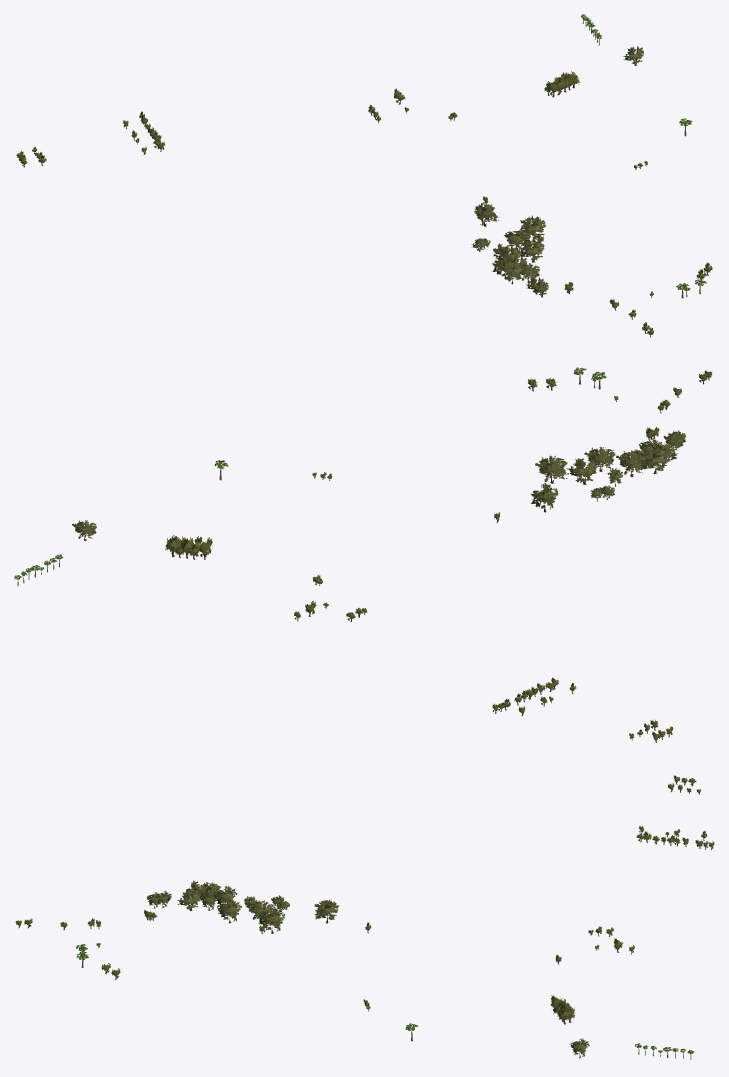
3 views of the same model, one above another, from view 1: azimuth 30°, elevation 25°; view 2: azimuth 150°, elevation 25°; view 3: azimuth 270°, elevation 25° (orthographic). The views are drawn at different scales.
Parts seen in each view (by area): view 1: jacaranda_tree street foliage, island_tree_01 street foliage; view 2: jacaranda_tree street foliage, island_tree_01 street foliage, Census palm fronds and trunk; view 3: jacaranda_tree street foliage, island_tree_01 street foliage, Census palm fronds and trunk.
Part boxes in pixels (<box>): jacaranda_tree street foliage: <box>471,46,643,295</box>; island_tree_01 street foliage: <box>16,71,712,334</box>; jacaranda_tree street foliage: <box>72,430,685,538</box>; island_tree_01 street foliage: <box>165,370,711,739</box>; Census palm fronds and trunk: <box>14,367,606,585</box>; jacaranda_tree street foliage: <box>147,880,589,1056</box>; island_tree_01 street foliage: <box>15,775,714,1020</box>; Census palm fronds and trunk: <box>76,944,694,1059</box>.
Bounding box in the file's own units: 511 × 20.58 × 538.
Materials: 7 (7 with a texture image).
